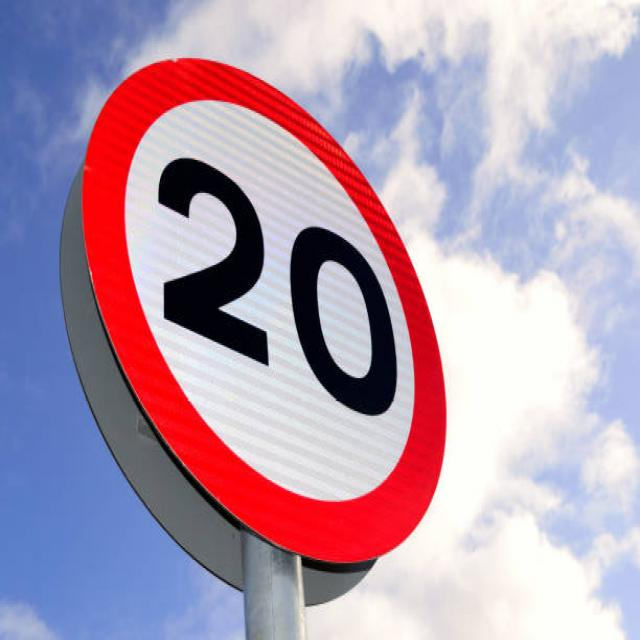speed_limit_20: (75, 50, 455, 562)
